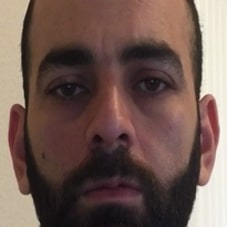awake: (34, 34, 189, 227)
